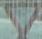Give way: (3, 3, 40, 38)
